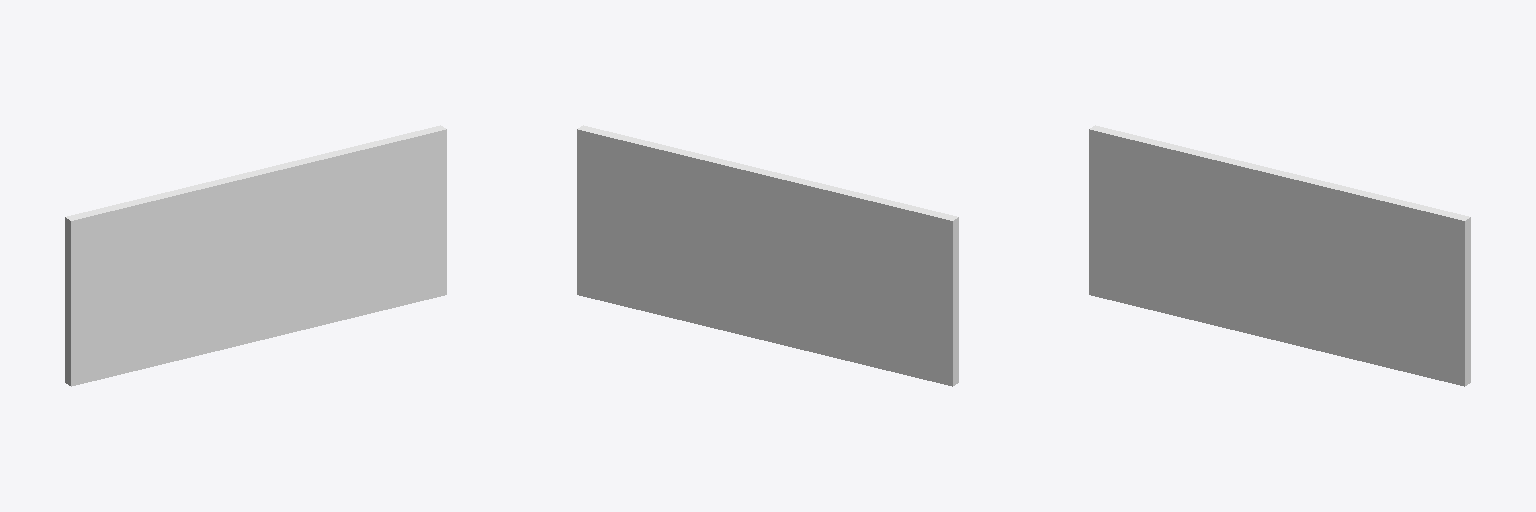
Rendered from Counter-6.obj.
3 views of the same model, side by side, from view 1: azimuth 30°, elevation 25°; view 2: azimuth 150°, elevation 25°; view 3: azimuth 330°, elevation 25° (orthographic).
Parts seen in each view (by area): view 1: object 1; view 2: object 1; view 3: object 1.
Boxes of the visible parts, box(x1,y1,x2,y2) form: object 1: box(65, 125, 446, 386); object 1: box(577, 125, 958, 386); object 1: box(1089, 125, 1470, 386).
Size of the model in its own units: 3.8 by 1.6 by 0.1.